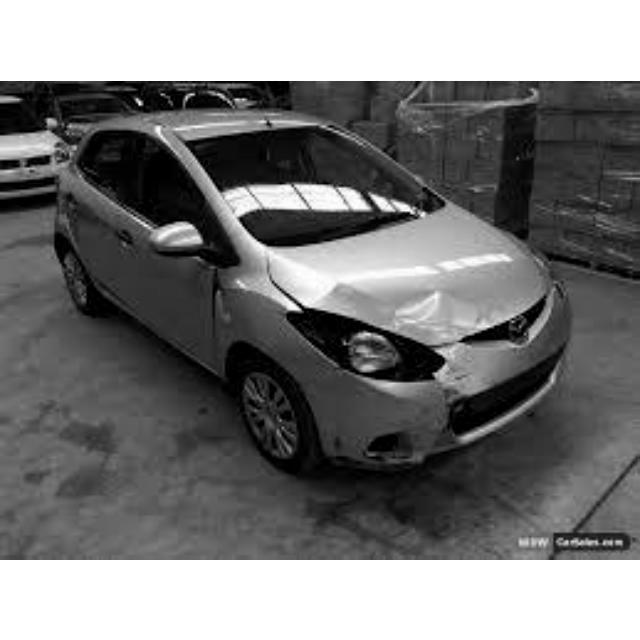bonnet-dent: (310, 266, 507, 347)
front-bumper-dent: (312, 355, 482, 463)
